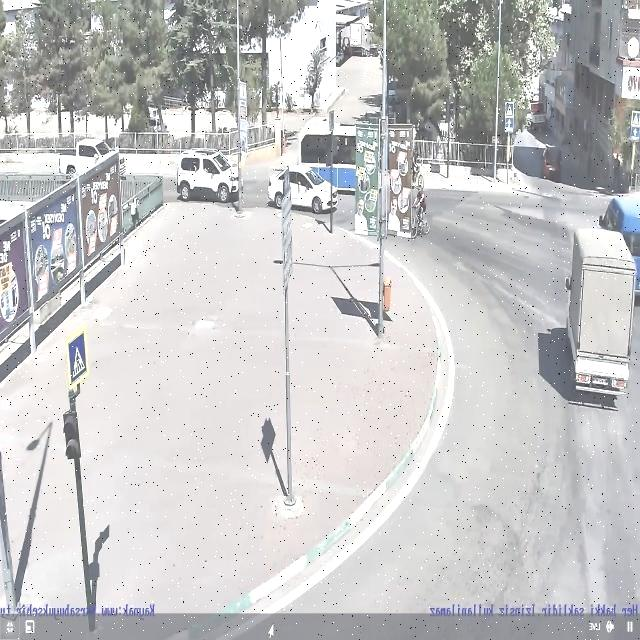Bus: (296, 120, 404, 195)
Car: (266, 165, 340, 214), (540, 143, 564, 179)
Cycle: (404, 215, 432, 239), (411, 163, 427, 188)
Truck: (564, 226, 637, 399), (59, 139, 128, 188)
Van: (596, 194, 640, 297), (176, 147, 243, 201)
